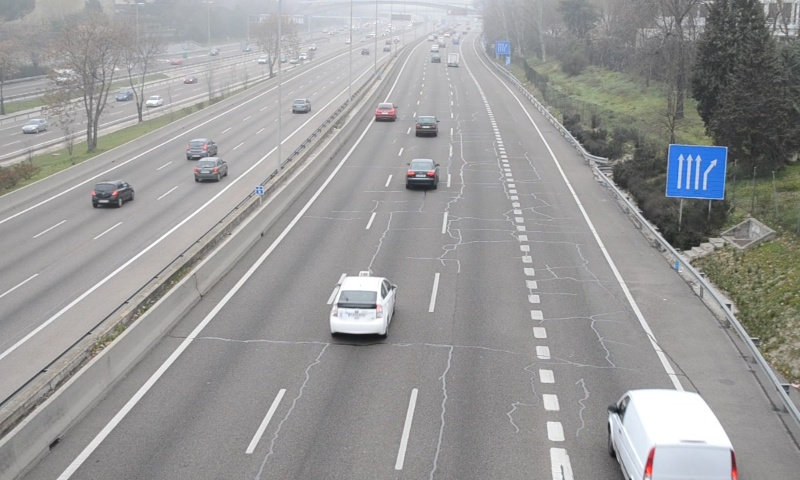car: (329, 275, 394, 336), (406, 158, 438, 186), (414, 115, 438, 136), (374, 102, 398, 120)
van: (608, 388, 738, 480)
